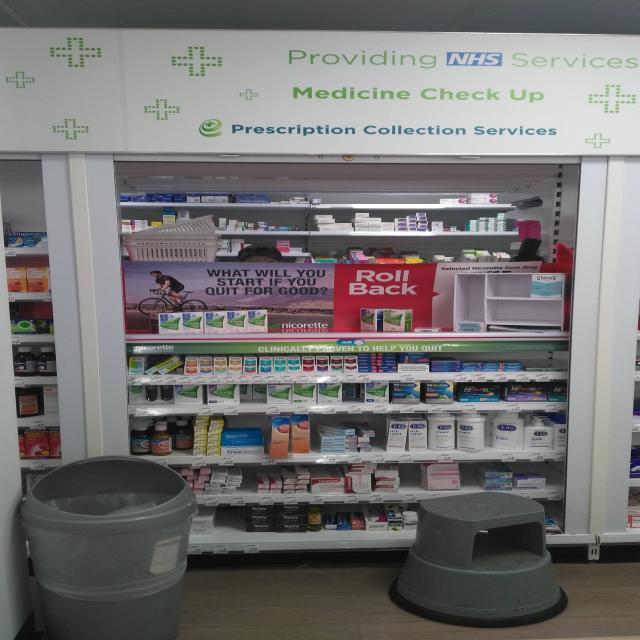unorganised: (455, 410, 487, 451), (183, 468, 243, 486), (383, 416, 408, 456), (170, 421, 192, 453), (147, 356, 181, 375), (315, 421, 357, 436), (241, 384, 265, 405), (347, 462, 377, 475), (344, 381, 361, 401), (357, 422, 375, 436)
